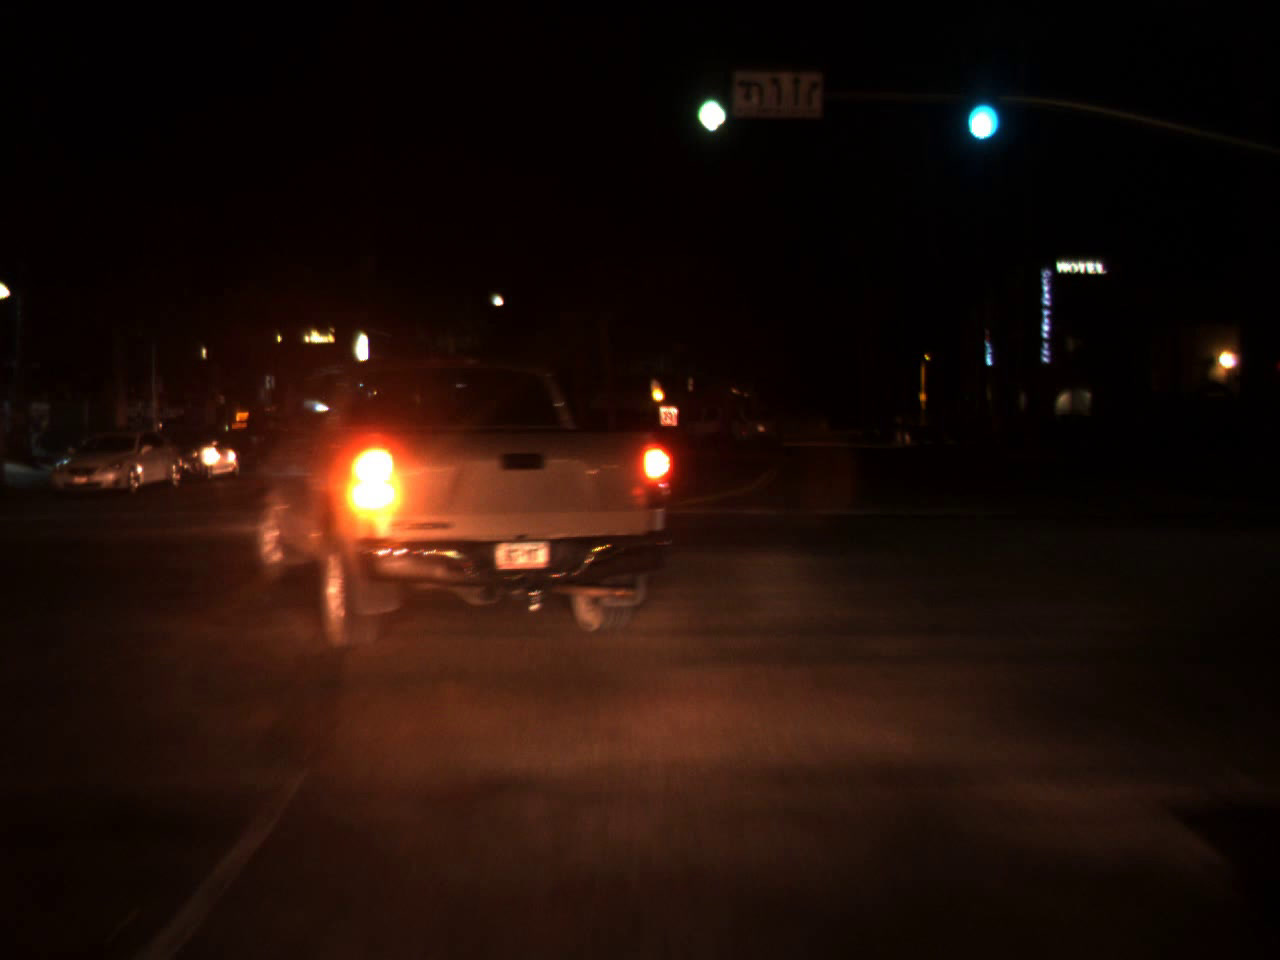go: (954, 68, 1000, 152), (687, 61, 732, 144)
